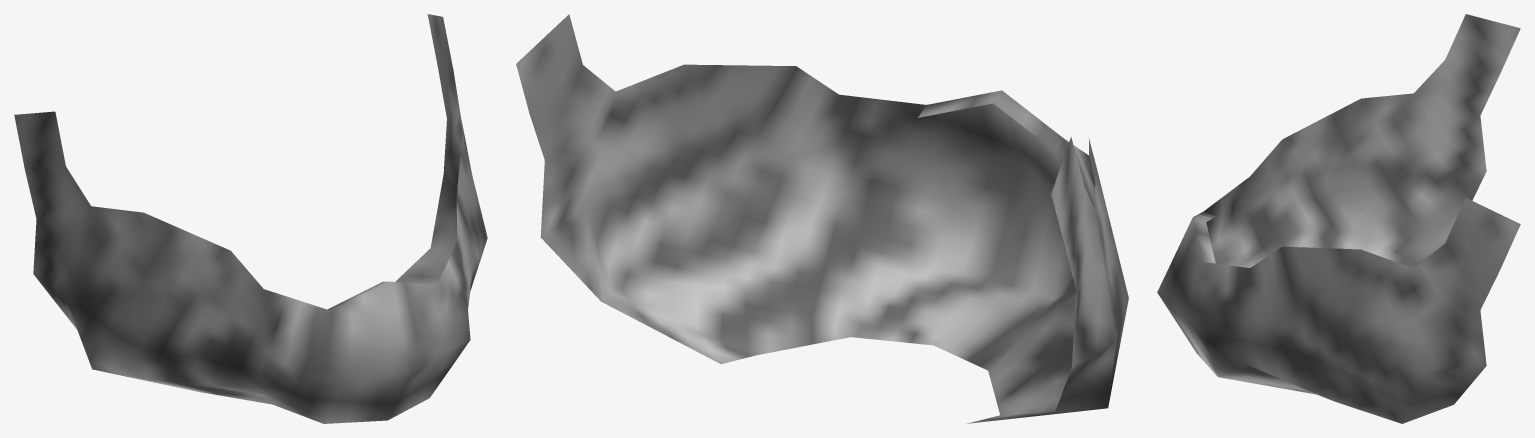
Rendered from FakeBeard_Bob_Beard_Only.fbx.
The picture shows the model from 3 angles, left to right: view 1: azimuth 30°, elevation 25°; view 2: azimuth 150°, elevation 25°; view 3: azimuth 270°, elevation 25°; orthographic projection. The views are drawn at different scales.
Parts seen in each view (by area): view 1: BoxOfJars003; view 2: BoxOfJars003; view 3: BoxOfJars003.
Boxes of the visible parts, box(x1,y1,x2,y2) form: BoxOfJars003: box(14, 14, 487, 423); BoxOfJars003: box(516, 14, 1128, 423); BoxOfJars003: box(1157, 14, 1520, 423).
Size of the model in its own units: 11.07 by 6.98 by 8.68.
